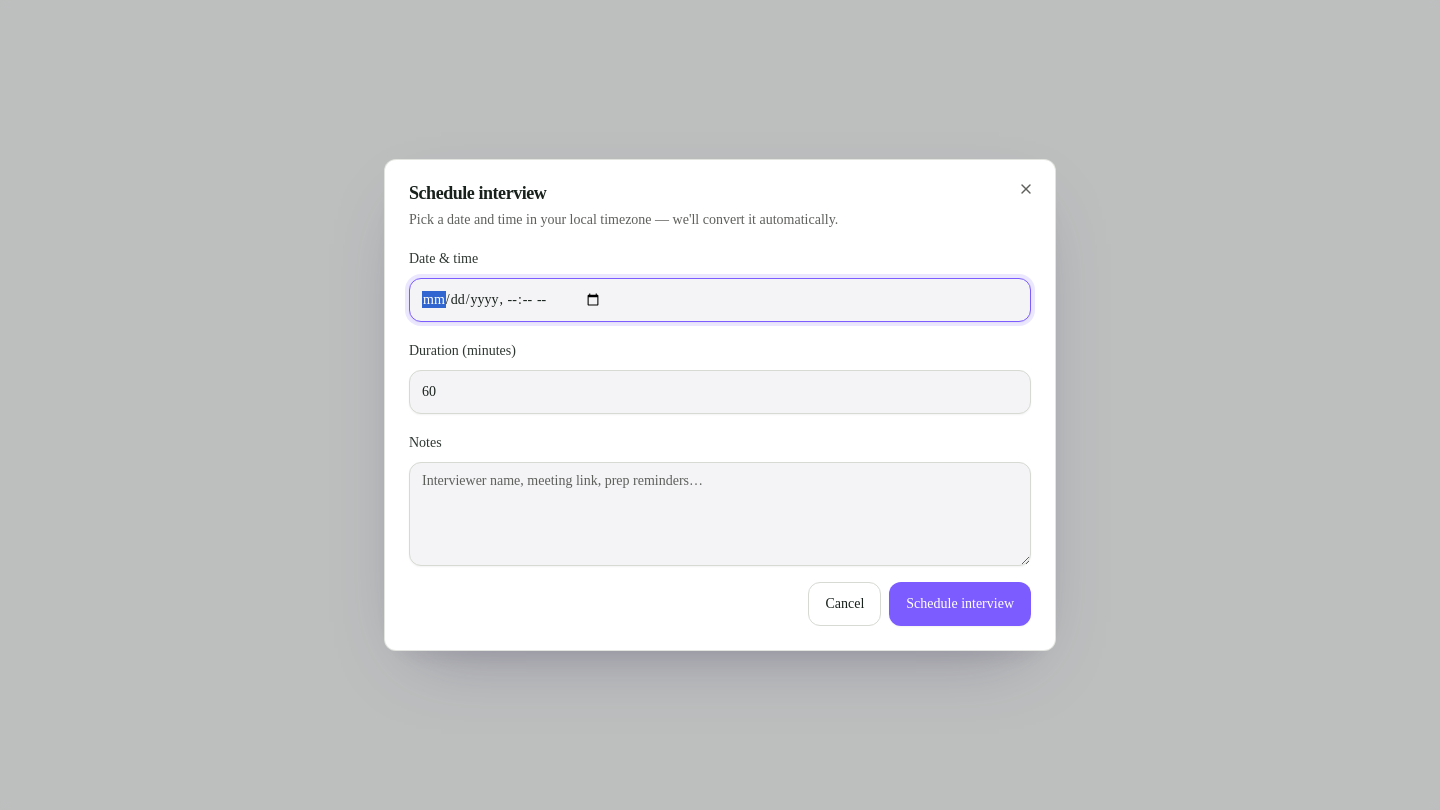
ScheduleInterviewDialog › shows a validation error when submitted with no date/time chosen
Click the button "Schedule interview" at x=960, y=604, box x1=889 y1=582 x2=1031 y2=626
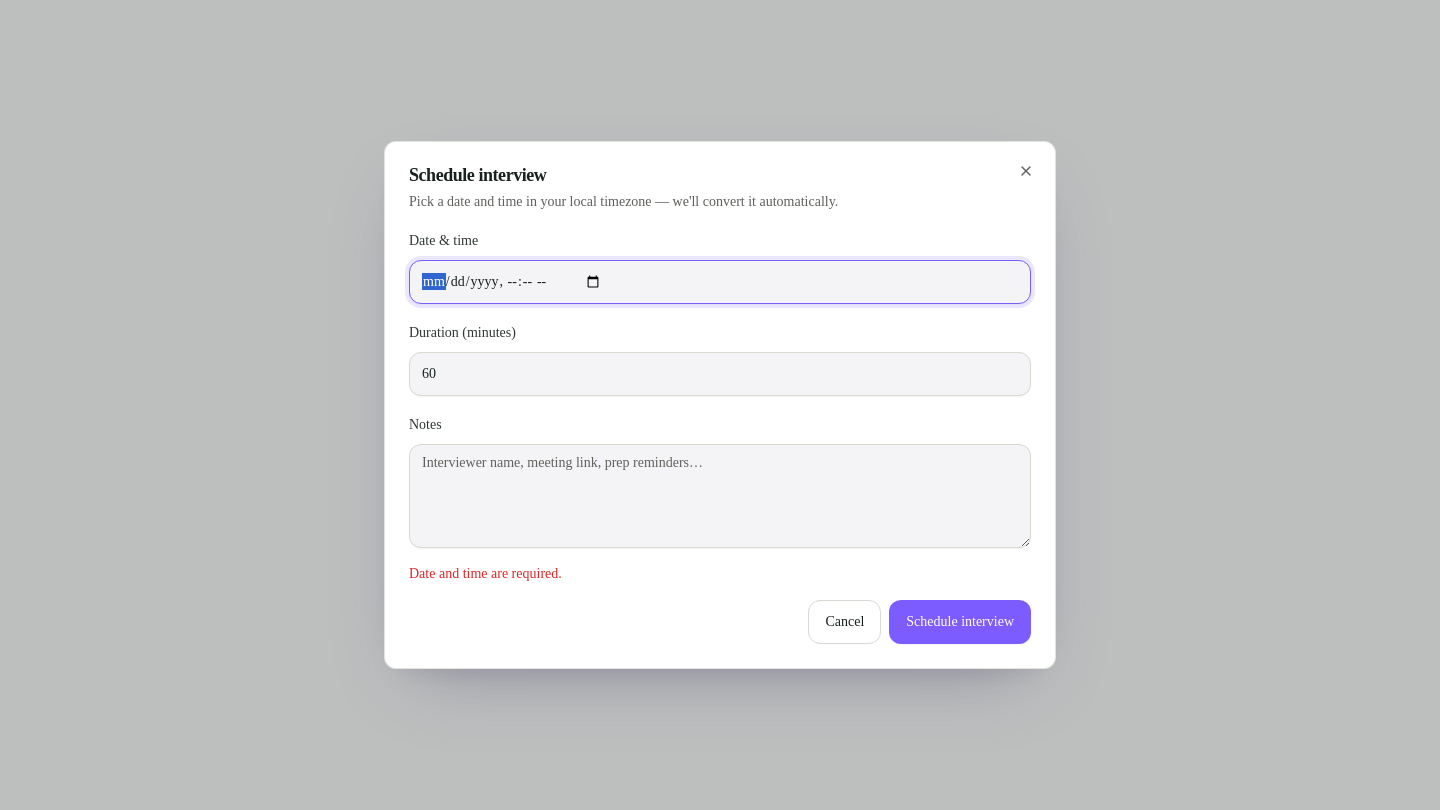
Expected: the text "Date and time are required." is shown, x1=409 y1=566 x2=562 y2=581
